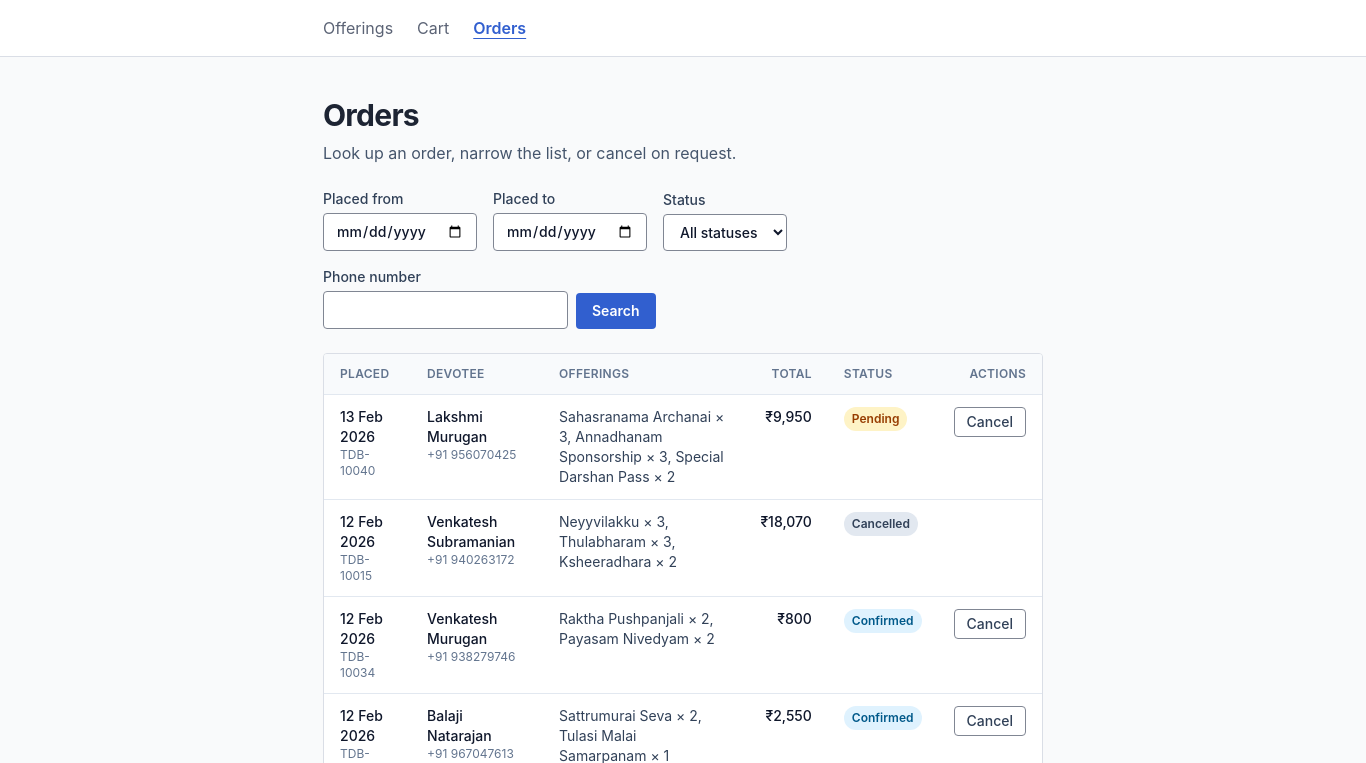
Scenario: Orders screen › narrows the list to a chosen status
Select "Completed" in the dropdown labelled "Status" at x=725, y=232, box [663,214,787,251]
(page scrolled)
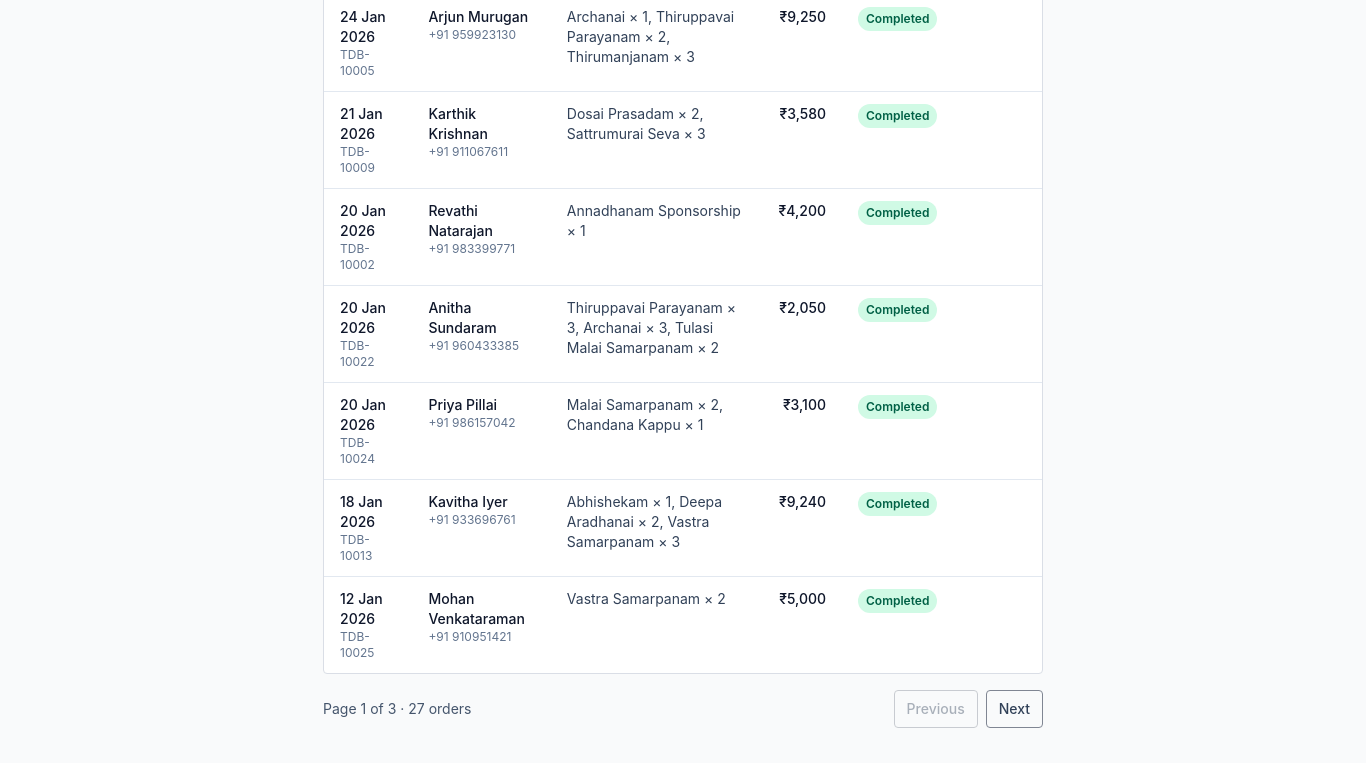
Result: the text "Completed" in the row of "24 Jan 2026" is shown at [866,11,929,26]
Result: the text "Completed" in the row of "21 Jan 2026" is shown at [866,108,929,123]
Result: the text "Completed" in the row of "Revathi Natarajan" is shown at [866,205,929,220]
